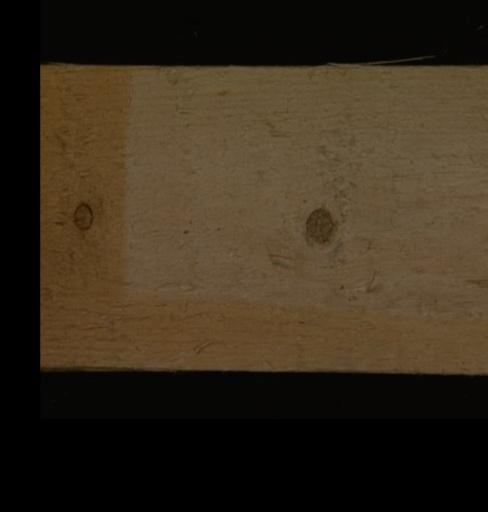dry_knot: (70, 200, 93, 230)
sound_knot: (304, 204, 334, 245)
